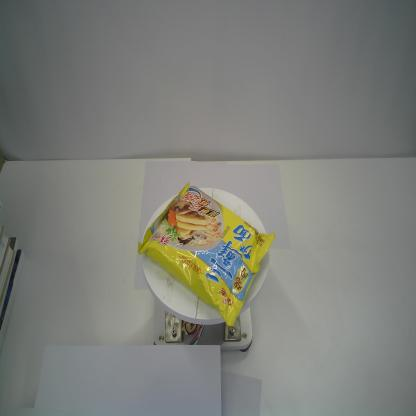Instant Noodles: (137, 181, 276, 327)
